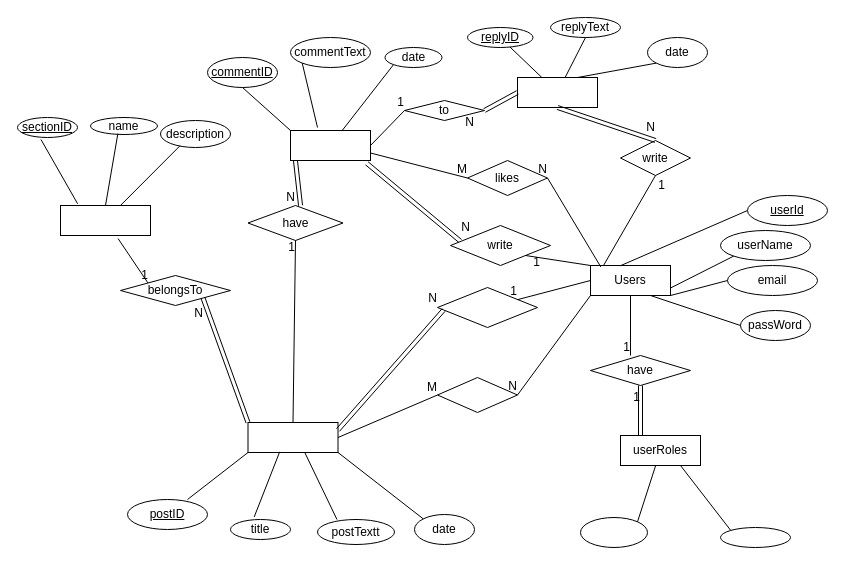
This 845x565 diagram has some shape labels left out. The shapes that lost their labels are listed below. From the top down, each one's centre as x and y in pixels, then its label:
the point at 557,92: replies
the point at 330,145: comments
the point at 105,220: sections
the point at 487,307: creates
the point at 477,394: votes
the point at 292,437: posts
the point at 614,532: roleID
the point at 755,537: roleName
